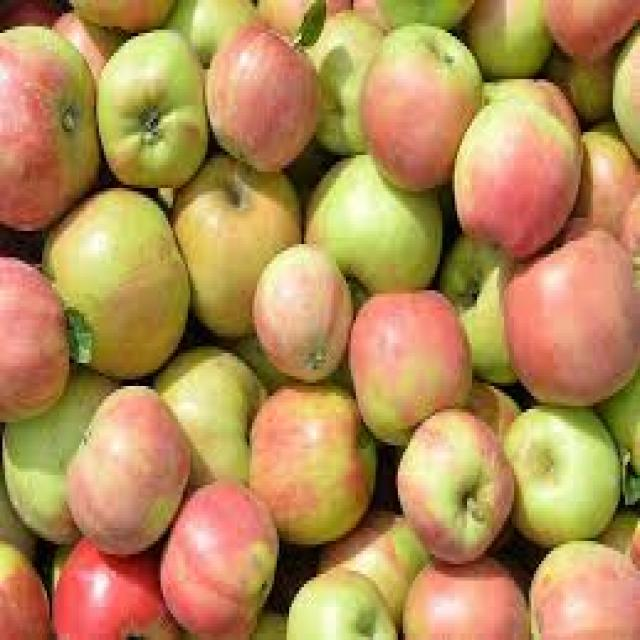organic waste: (37, 178, 185, 380), (499, 211, 638, 403), (447, 76, 583, 257), (173, 155, 299, 337), (0, 363, 119, 548), (62, 380, 188, 554), (302, 148, 442, 297), (358, 20, 482, 188), (0, 16, 96, 227), (247, 383, 371, 541), (390, 406, 514, 561), (346, 287, 472, 439), (158, 478, 274, 637), (94, 26, 205, 188), (499, 396, 620, 541), (202, 16, 314, 165), (151, 340, 262, 485), (247, 234, 351, 386), (316, 504, 430, 636), (49, 534, 178, 637), (0, 237, 69, 419), (440, 231, 519, 383), (526, 538, 638, 636), (304, 10, 380, 152), (401, 554, 526, 637), (554, 119, 638, 238), (232, 330, 364, 402), (284, 570, 396, 636), (460, 0, 551, 73), (160, 0, 254, 69), (541, 0, 637, 59), (539, 43, 608, 122), (596, 366, 638, 478), (0, 538, 47, 636), (254, 0, 351, 46), (608, 23, 637, 155), (49, 4, 106, 70), (0, 465, 35, 571), (375, 0, 472, 26), (616, 175, 638, 257), (62, 304, 91, 359), (2, 0, 57, 23), (620, 442, 638, 505), (247, 607, 284, 637), (297, 0, 321, 43), (351, 0, 383, 30), (628, 515, 638, 564)
